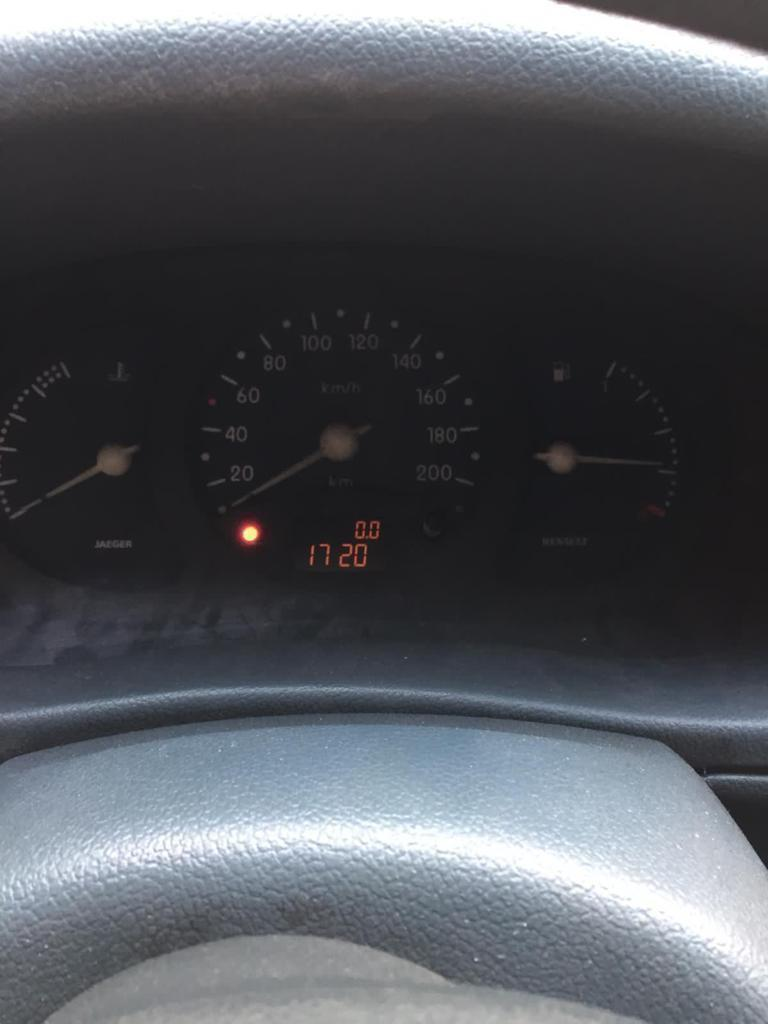,: (365, 535, 368, 540)
0: (353, 542, 367, 567), (354, 520, 365, 540), (369, 520, 379, 539)
1: (309, 542, 315, 568)
2: (338, 542, 352, 568)
7: (318, 542, 330, 566)
odometer: (274, 509, 393, 581)
